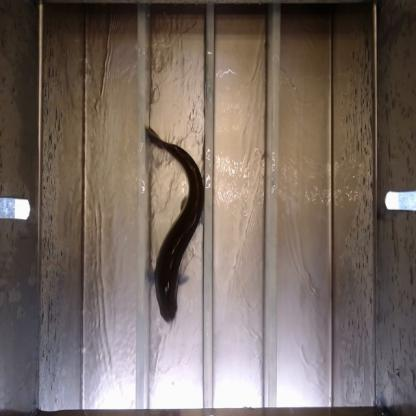pezw: (145, 118, 204, 321)
